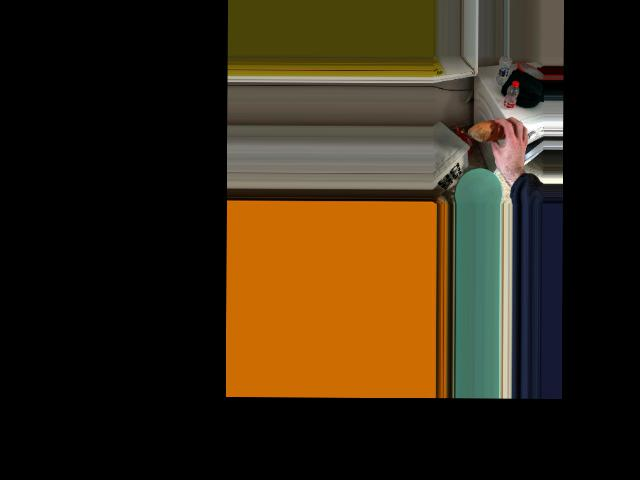sweet_potato: (479, 121, 512, 146)
